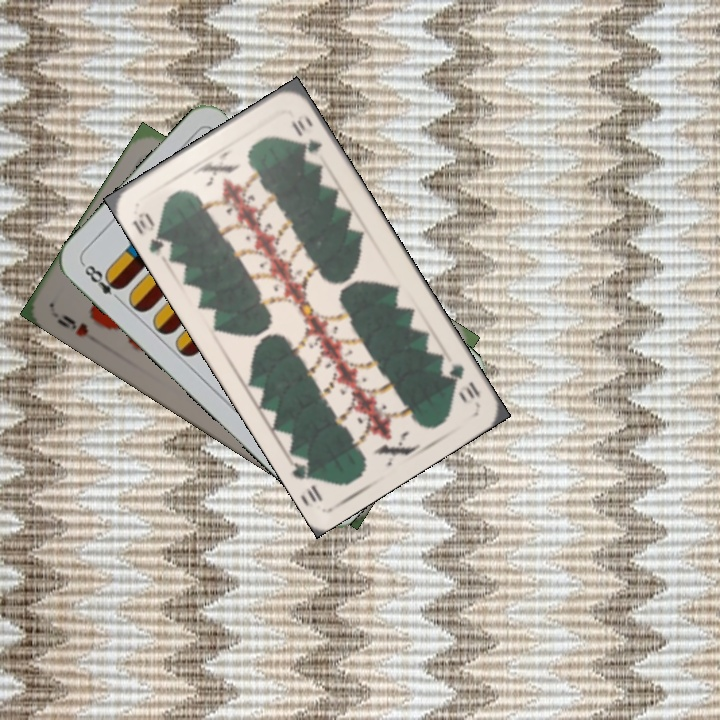E8: (79, 259, 125, 306)
G10: (128, 208, 175, 259), (444, 359, 483, 402)
H9: (52, 310, 92, 340)
